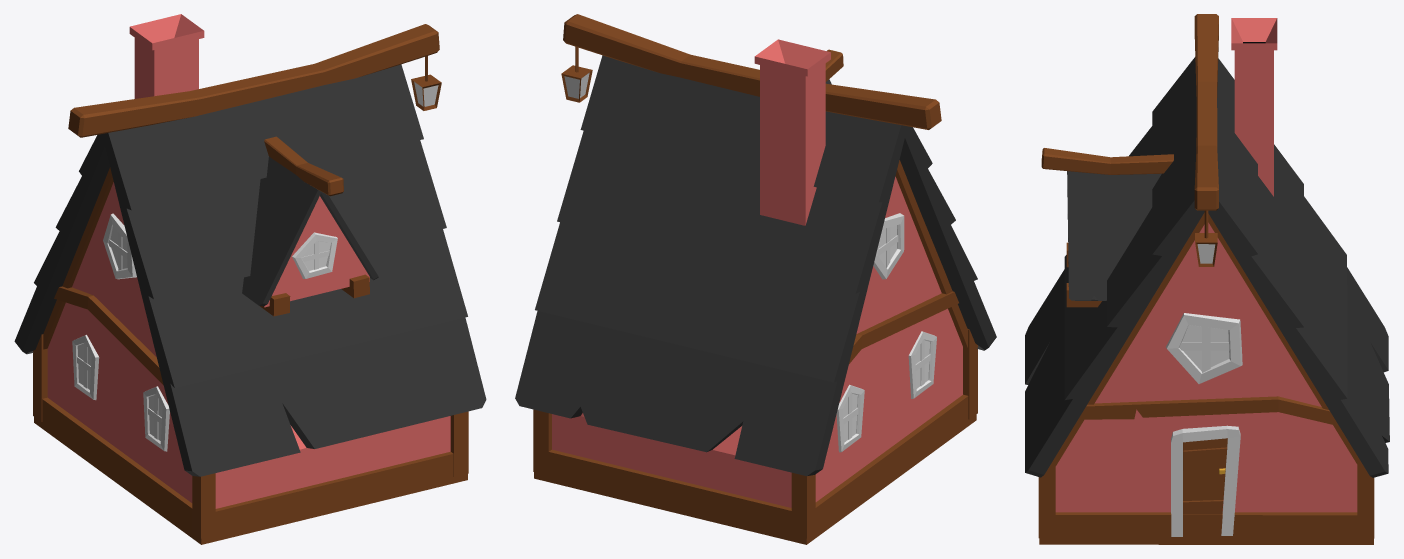
File: House.fbx
3 renders of one model, left to right at view 1: azimuth 30°, elevation 25°; view 2: azimuth 150°, elevation 25°; view 3: azimuth 270°, elevation 25°, orthographic.
Parts seen in each view (by area): view 1: House; view 2: House; view 3: House.
Part boxes in pixels (<box>): House: <box>14,14,486,544</box>; House: <box>515,14,996,544</box>; House: <box>1025,14,1389,544</box>.
Size of the model in its own units: 3889 by 4465 by 4935.
